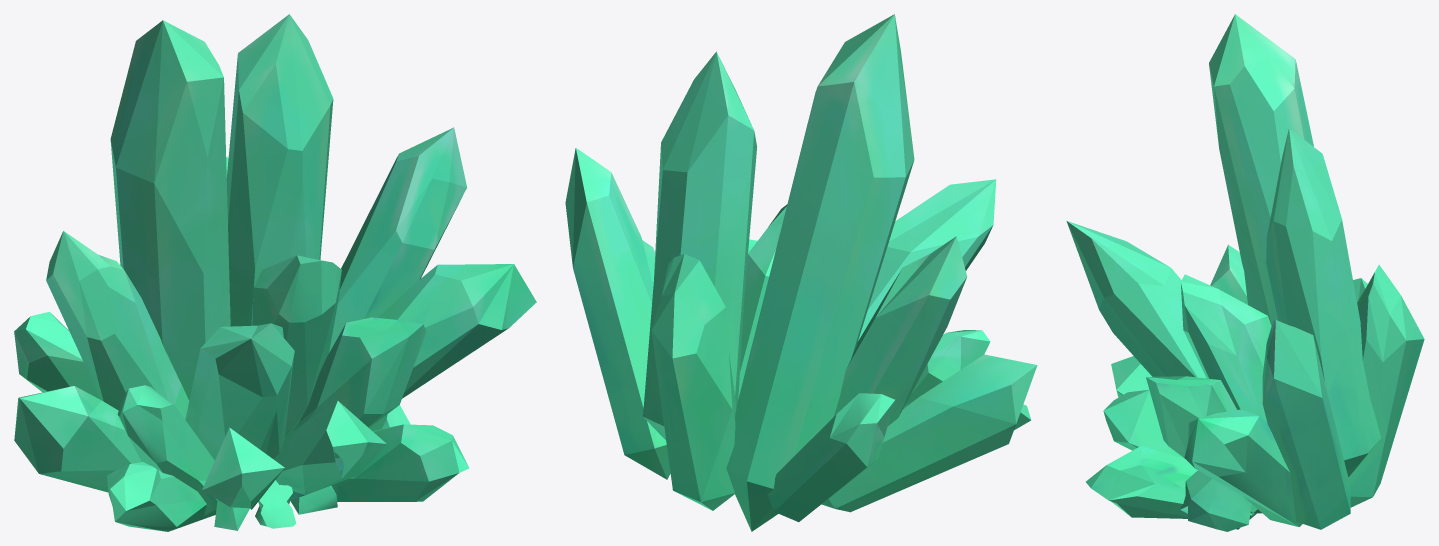
File: Crystal_8_best.fbx
3 renders of one model, left to right at view 1: azimuth 30°, elevation 25°; view 2: azimuth 150°, elevation 25°; view 3: azimuth 270°, elevation 25°, orthographic. The views are drawn at different scales.
Visible parts, largest first — view 1: Crystal_8; view 2: Crystal_8; view 3: Crystal_8.
Part boxes in pixels (left/top/right/bottom): Crystal_8: left=14, top=14, right=536, bottom=531; Crystal_8: left=565, top=14, right=1037, bottom=531; Crystal_8: left=1066, top=14, right=1424, bottom=531.
Bounding box in the file's own units: 177 × 178 × 128.
1 material, 1 textured.
